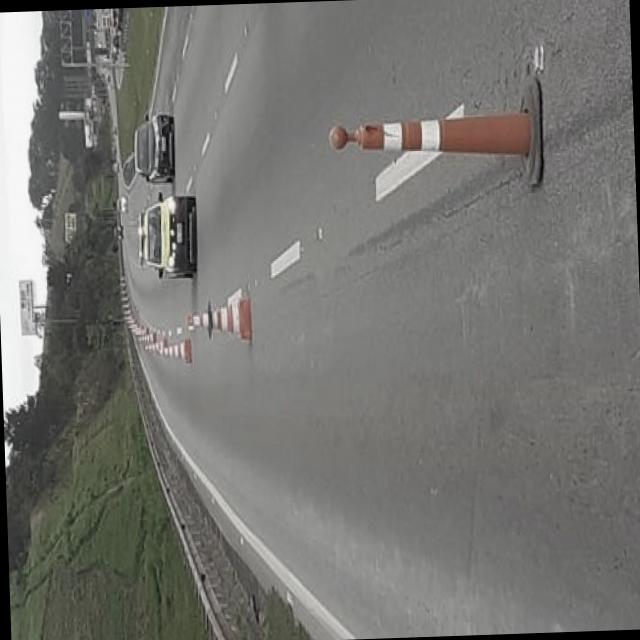cone: (156, 327, 194, 372)
